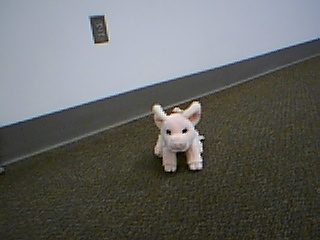piggy: (150, 99, 205, 174)
